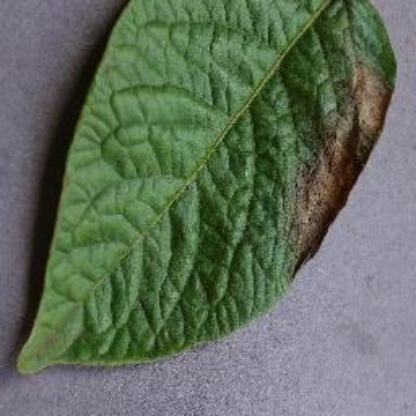Late-Blight: (12, 0, 398, 378)
